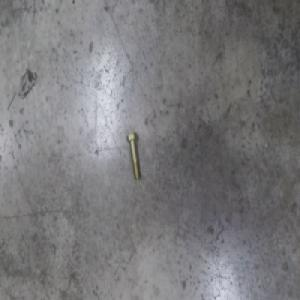Bolt: (126, 130, 140, 179)
